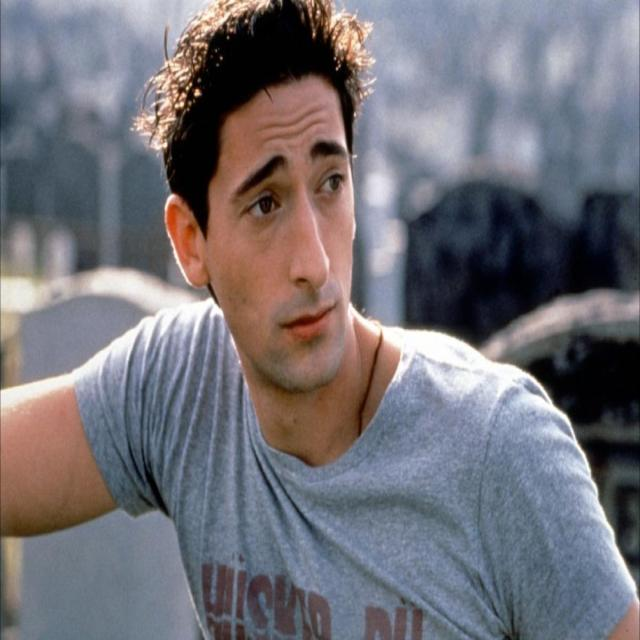no-earmuff: (163, 191, 207, 288)
